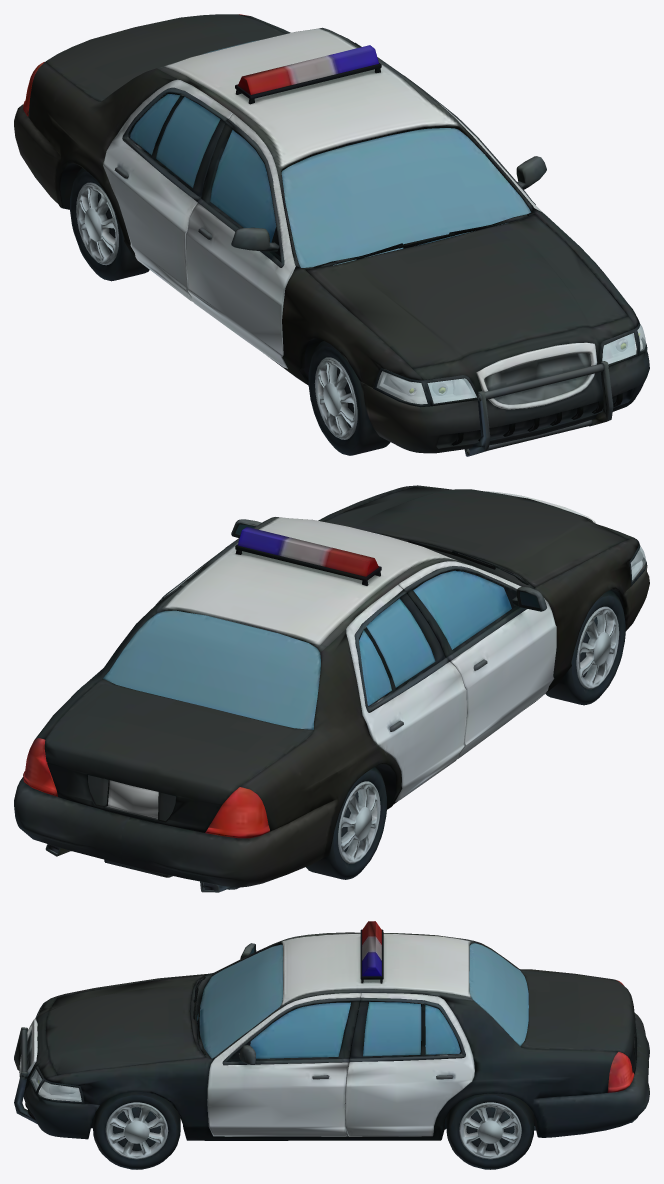
File: police.glb
3 renders of one model, top to bottom at view 1: azimuth 30°, elevation 25°; view 2: azimuth 150°, elevation 25°; view 3: azimuth 270°, elevation 25°, orthographic. The views are drawn at different scales.
Parts seen in each view (by area): view 1: rotor_hub (×2); view 2: rotor_hub; view 3: rotor_hub (×2).
Part boxes in pixels (x1=…): rotor_hub (×2): x1=14, y1=14, x2=649, y2=456; rotor_hub: x1=14, y1=485, x2=649, y2=892; rotor_hub (×2): x1=14, y1=921, x2=649, y2=1169.
Size of the model in its own units: 2.28 by 1.68 by 5.39.
Materials: 2 (2 with a texture image).
